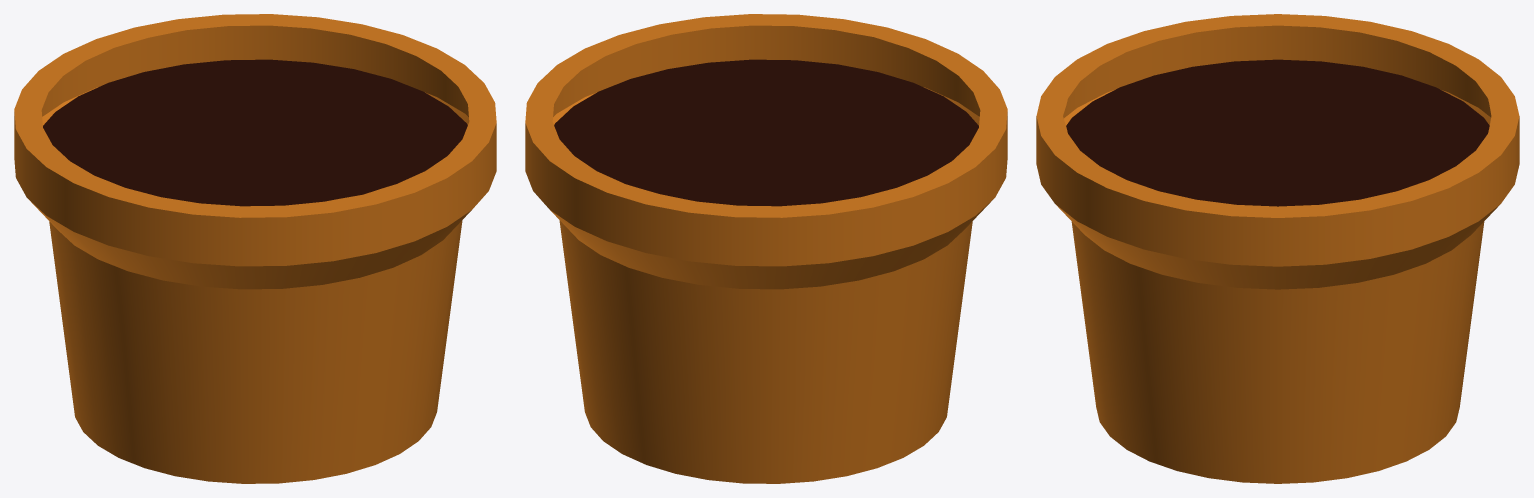
File: uekibachi.fbx
The picture shows the model from 3 angles, left to right: view 1: azimuth 30°, elevation 25°; view 2: azimuth 150°, elevation 25°; view 3: azimuth 270°, elevation 25°; orthographic projection.
Parts seen in each view (by area): view 1: Cylinder, Circle; view 2: Cylinder, Circle; view 3: Cylinder, Circle.
Part boxes in pixels (x1,y1,x2,y2): Cylinder: (14,14,496,483); Circle: (43,59,467,206); Cylinder: (525,14,1007,483); Circle: (554,59,978,206); Cylinder: (1036,14,1519,483); Circle: (1066,59,1489,206).
Size of the model in its own units: 252 by 167 by 252.
